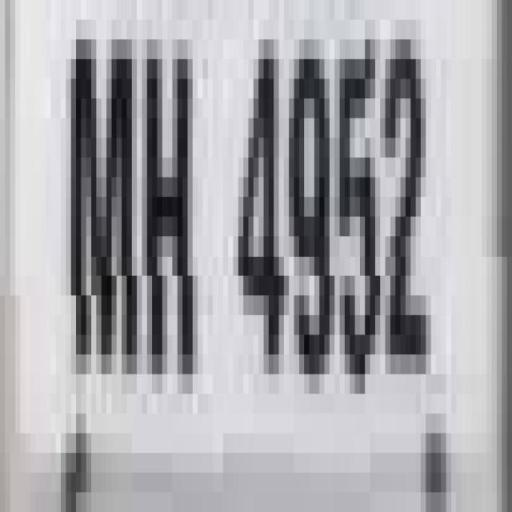number plate: (0, 0, 482, 492)
